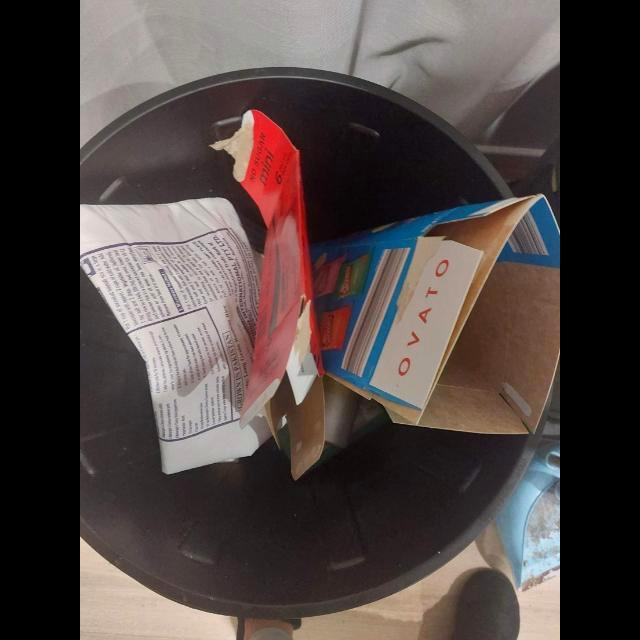cardboard: (310, 195, 560, 435), (209, 110, 326, 482)
paper: (80, 198, 271, 476)
